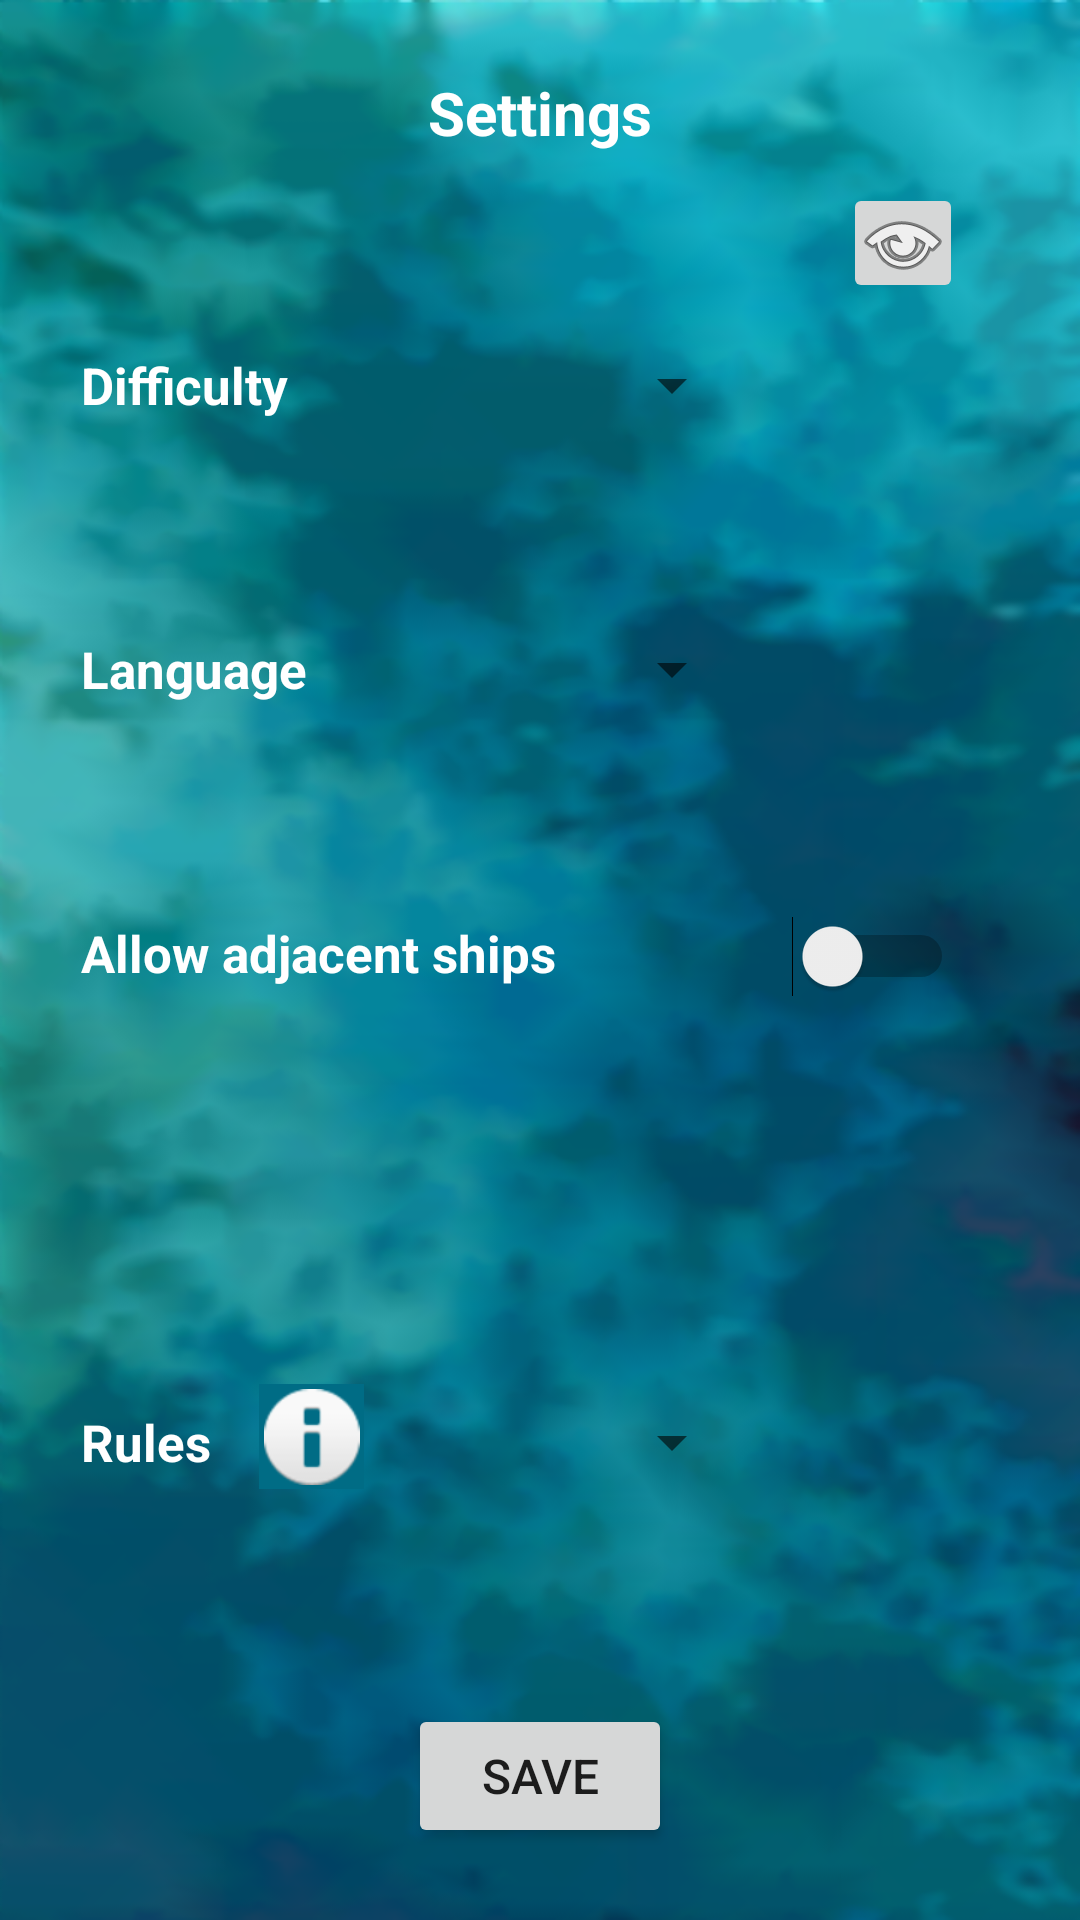

Named icons in this screenshot (1080 × 1920) and their bounding boxes, (x1, y1, x2, y2):
info: (264, 1389, 360, 1485)
view: (843, 183, 963, 303)
